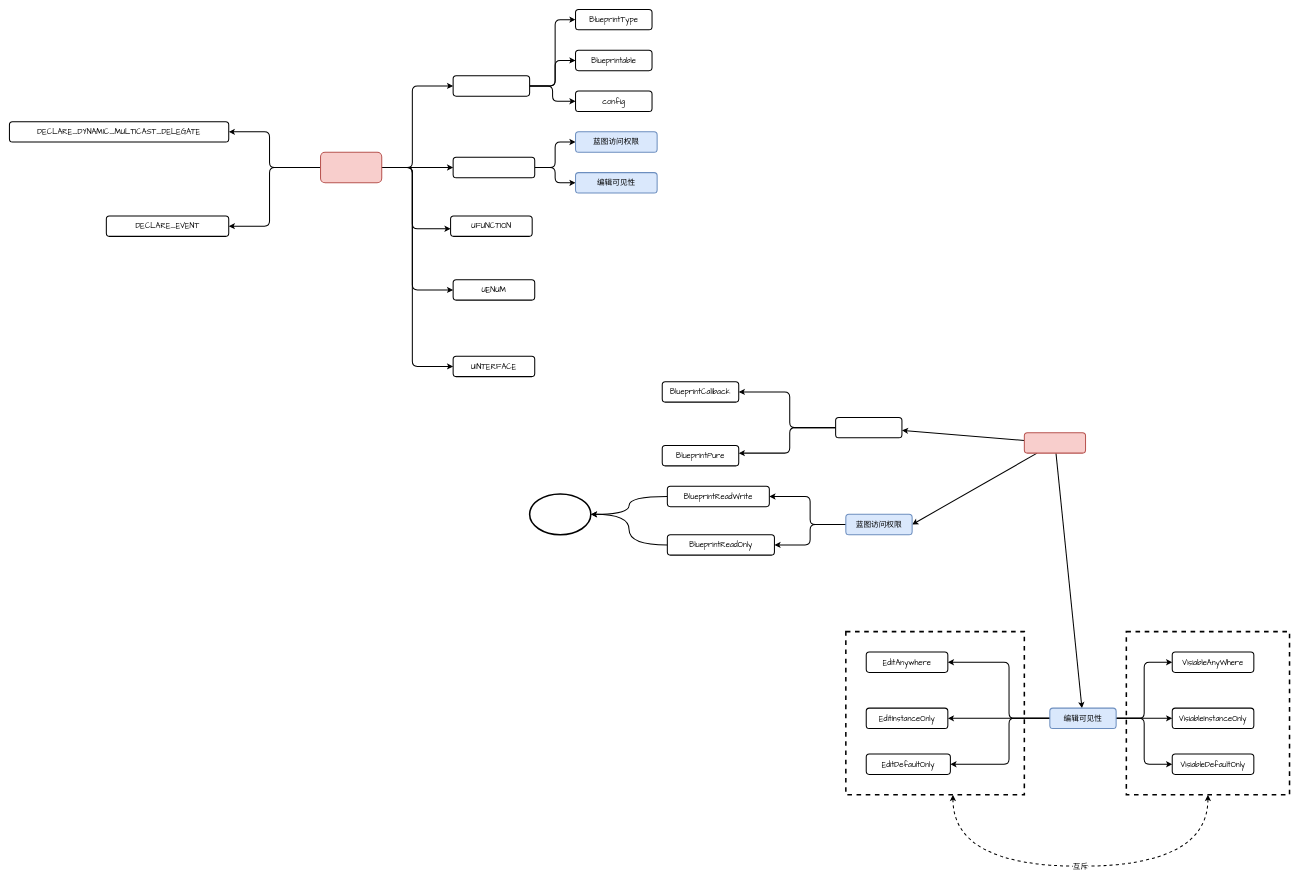
Some shapes in this 1299 by 880 pixel diagram are drawn without their labels. Here are the shapes that lost their labels. From the top down, the centre of each, then its label:
the point at 491,85: UCLASS
the point at 351,167: 基础的宏
the point at 493,167: UPROPERTY
the point at 868,427: Function
the point at 1055,442: 修饰符
the point at 560,514: Getter & Setter节点
